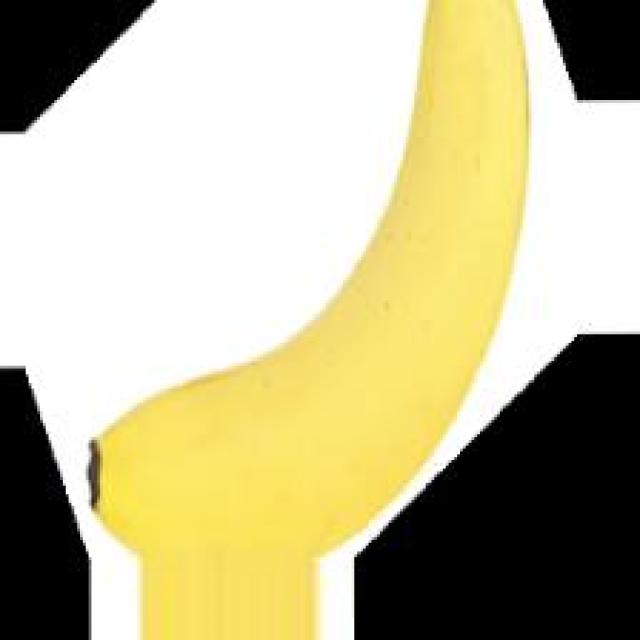banana: (97, 24, 537, 547)
